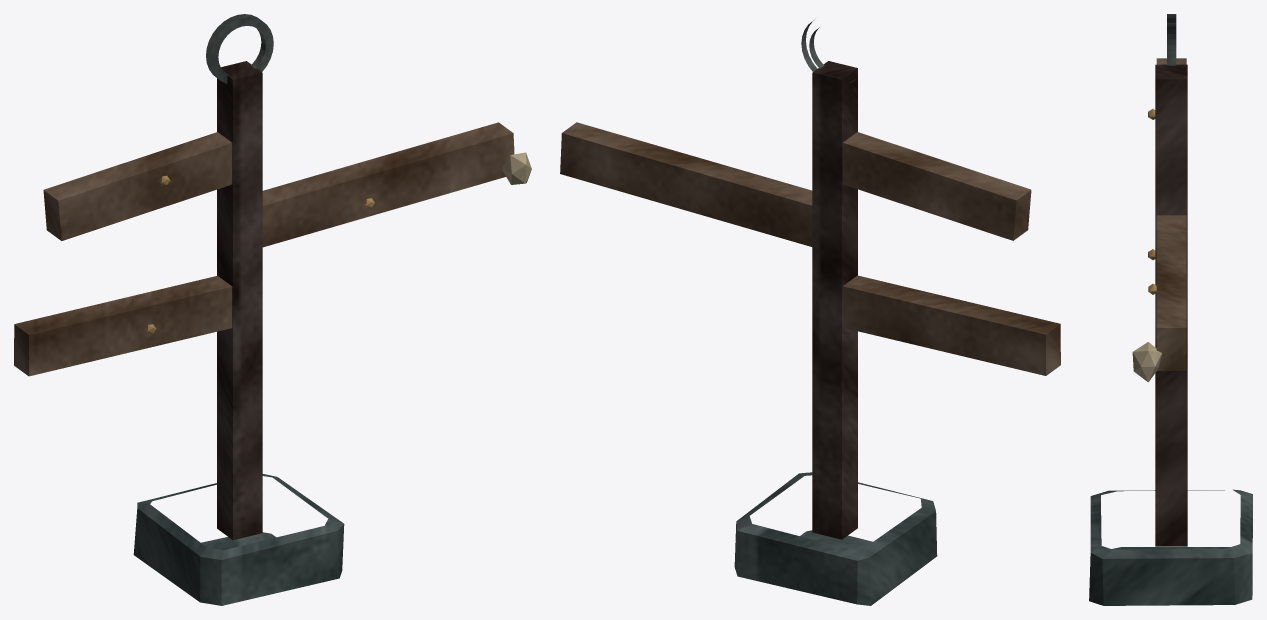
Rendered from 0641_signpost_16.glb.
3 views of the same model, side by side, from view 1: azimuth 30°, elevation 25°; view 2: azimuth 150°, elevation 25°; view 3: azimuth 270°, elevation 25° (orthographic).
Visible parts, largest first — view 1: wood, wood_dark, stone_dark, iron, bone; view 2: wood, wood_dark, stone_dark; view 3: wood_dark, stone_dark, wood, bone, iron.
Part boxes in pixels (left/top/right/bottom): wood: left=14, top=122, right=514, bottom=376; wood_dark: left=217, top=61, right=262, bottom=540; stone_dark: left=133, top=474, right=344, bottom=605; iron: left=206, top=14, right=273, bottom=83; bone: left=502, top=152, right=531, bottom=184; wood: left=560, top=122, right=1060, bottom=375; wood_dark: left=812, top=61, right=857, bottom=539; stone_dark: left=734, top=472, right=937, bottom=605; wood_dark: left=1155, top=64, right=1187, bottom=546; stone_dark: left=1089, top=489, right=1252, bottom=605; wood: left=1156, top=58, right=1186, bottom=370; bone: left=1132, top=342, right=1161, bottom=382; iron: left=1167, top=14, right=1176, bottom=65.
Size of the model in its own units: 2.5 by 2.66 by 0.7065.
6 materials, 6 textured.
